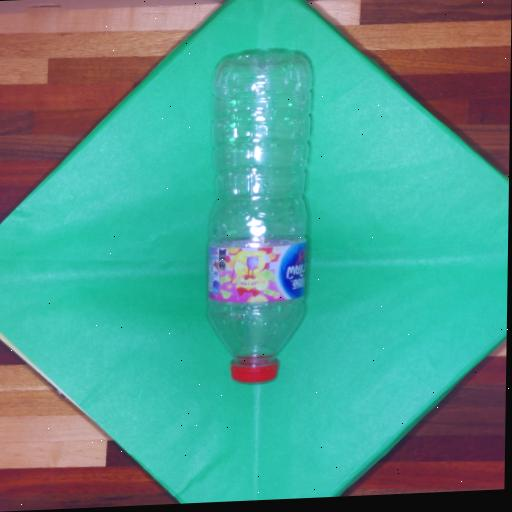bottle: (186, 30, 337, 414)
